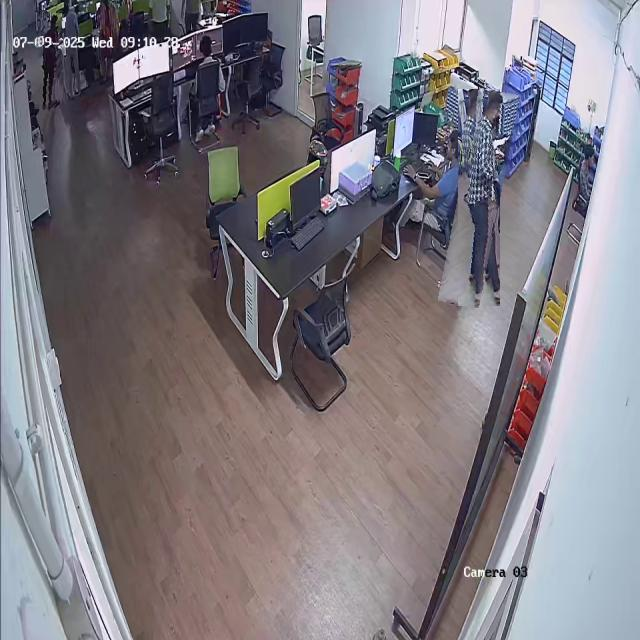person: (448, 88, 510, 307), (32, 12, 63, 110)
